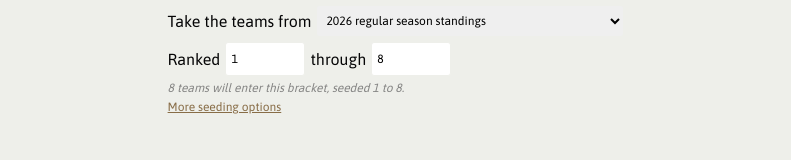
Test: TournamentSeedingEditor › starts in simple mode and can reveal the full rule list
Expected: the text "Come from" is not shown
Click the button "More seeding options".
click(224, 107)  # box [168,100,281,114]
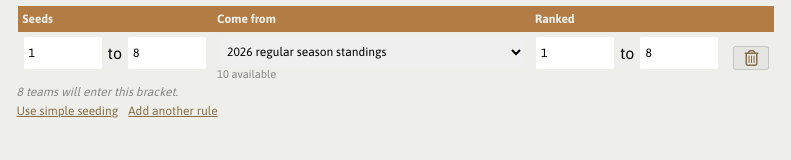
Now the column heading "Come from" is shown, box [212,6,530,32]
Now the button "Add another rule" is shown, box [128,104,218,118]
